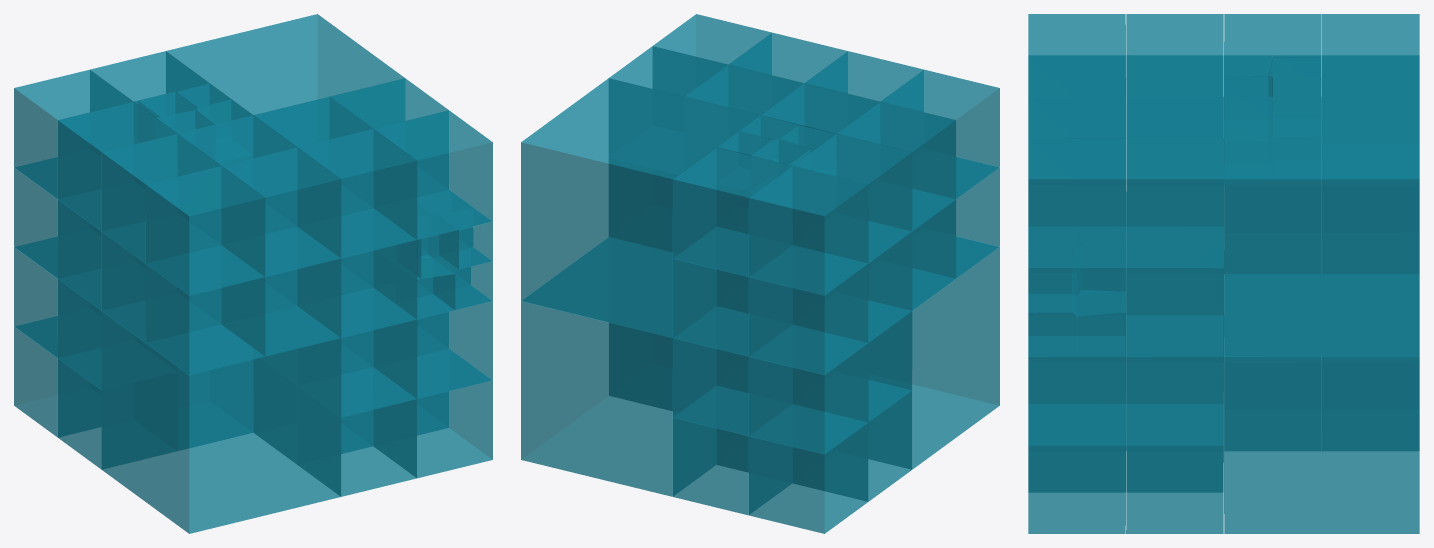
File: glass_v2.glb
3 renders of one model, left to right at view 1: azimuth 30°, elevation 25°; view 2: azimuth 150°, elevation 25°; view 3: azimuth 270°, elevation 25°, orthographic. The views are drawn at different scales.
Parts seen in each view (by area): view 1: shard_cell, shard_cell.007, shard_cell.001_cell, shard_cell.001_cell.002, shard_cell.005_cell, shard_cell.005_cell.003, shard_cell.001_cell.007, shard_cell.001_cell.005, shard_cell.004_cell.007, shard_cell.003_cell, shard_cell.003_cell.002, shard_cell.001_cell.003 (+34 smaller); view 2: shard_cell.007, shard_cell.006, shard_cell, shard_cell.003_cell, shard_cell.003_cell.002, shard_cell.002_cell.002, shard_cell.003_cell.006, shard_cell.002_cell, shard_cell.003_cell.004, shard_cell.001_cell, shard_cell.001_cell.005, shard_cell.003_cell.007 (+23 smaller); view 3: shard_cell.007, shard_cell.006, shard_cell.005_cell, shard_cell.005_cell.004, shard_cell.005_cell.005, shard_cell.004_cell.004, shard_cell.003_cell.004, shard_cell.005_cell.002, shard_cell.005_cell.003, shard_cell.004_cell, shard_cell.004_cell.002, shard_cell.004_cell.006 (+32 smaller).
Boxes of the visible parts, x1,y1,x2,y2 form: shard_cell: [101, 301, 340, 533]; shard_cell.007: [166, 14, 404, 146]; shard_cell.001_cell: [145, 166, 264, 295]; shard_cell.001_cell.002: [145, 246, 264, 374]; shard_cell.005_cell: [374, 110, 492, 239]; shard_cell.005_cell.003: [298, 129, 416, 258]; shard_cell.001_cell.007: [222, 147, 340, 276]; shard_cell.001_cell.005: [102, 134, 220, 263]; shard_cell.004_cell.007: [298, 368, 416, 496]; shard_cell.003_cell: [14, 69, 132, 198]; shard_cell.003_cell.002: [58, 101, 176, 230]; shard_cell.001_cell.003: [222, 227, 340, 356]; shard_cell.007: [521, 78, 759, 337]; shard_cell.006: [521, 238, 716, 496]; shard_cell: [869, 237, 999, 469]; shard_cell.003_cell: [749, 166, 868, 295]; shard_cell.003_cell.002: [793, 134, 912, 262]; shard_cell.002_cell.002: [749, 325, 868, 454]; shard_cell.003_cell.006: [749, 246, 868, 374]; shard_cell.002_cell: [749, 405, 868, 533]; shard_cell.003_cell.004: [673, 147, 791, 276]; shard_cell.001_cell: [881, 69, 999, 198]; shard_cell.001_cell.005: [837, 101, 955, 230]; shard_cell.003_cell.007: [673, 227, 791, 356]; shard_cell.007: [1224, 96, 1419, 356]; shard_cell.006: [1224, 275, 1419, 533]; shard_cell.005_cell: [1028, 138, 1125, 267]; shard_cell.005_cell.004: [1126, 138, 1223, 267]; shard_cell.005_cell.005: [1126, 227, 1223, 356]; shard_cell.004_cell.004: [1126, 316, 1223, 445]; shard_cell.003_cell.004: [1322, 55, 1419, 184]; shard_cell.005_cell.002: [1126, 96, 1223, 225]; shard_cell.005_cell.003: [1028, 96, 1125, 225]; shard_cell.004_cell: [1028, 405, 1125, 533]; shard_cell.004_cell.002: [1126, 405, 1223, 533]; shard_cell.004_cell.006: [1028, 316, 1125, 445].
Bounding box in the file's own units: 2 × 2 × 2.
